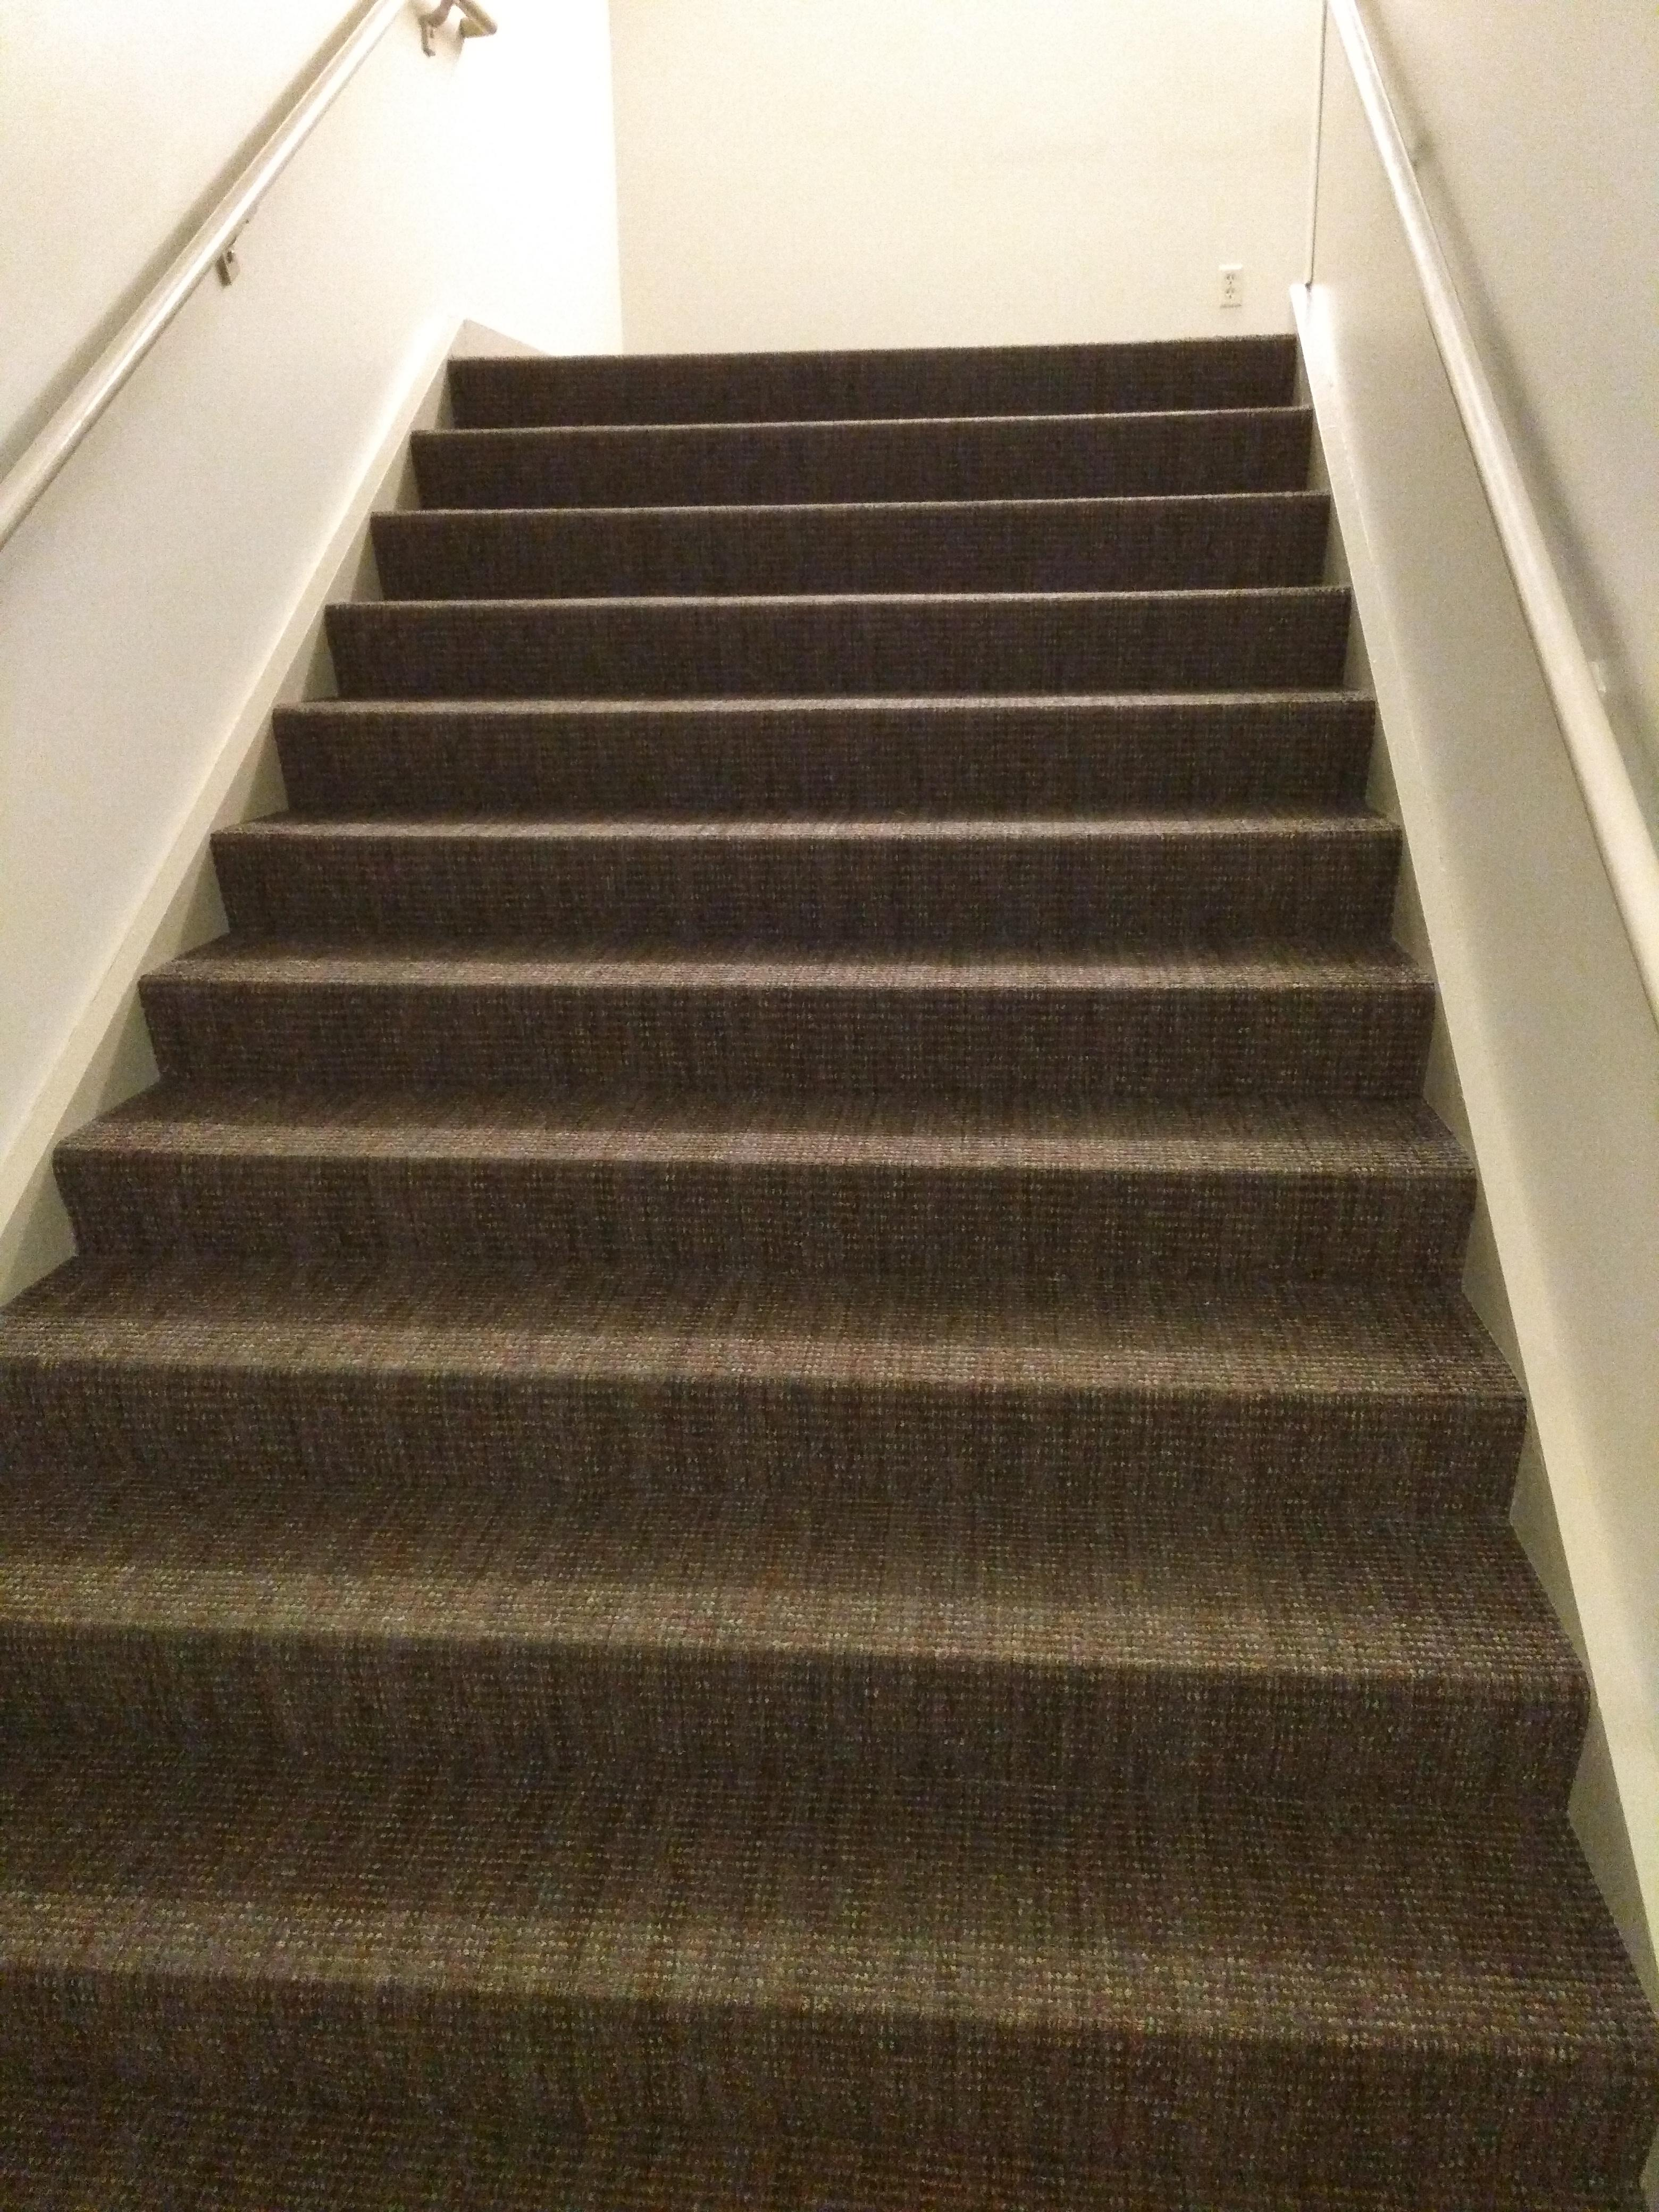stairs_up: (10, 310, 1659, 2153)
